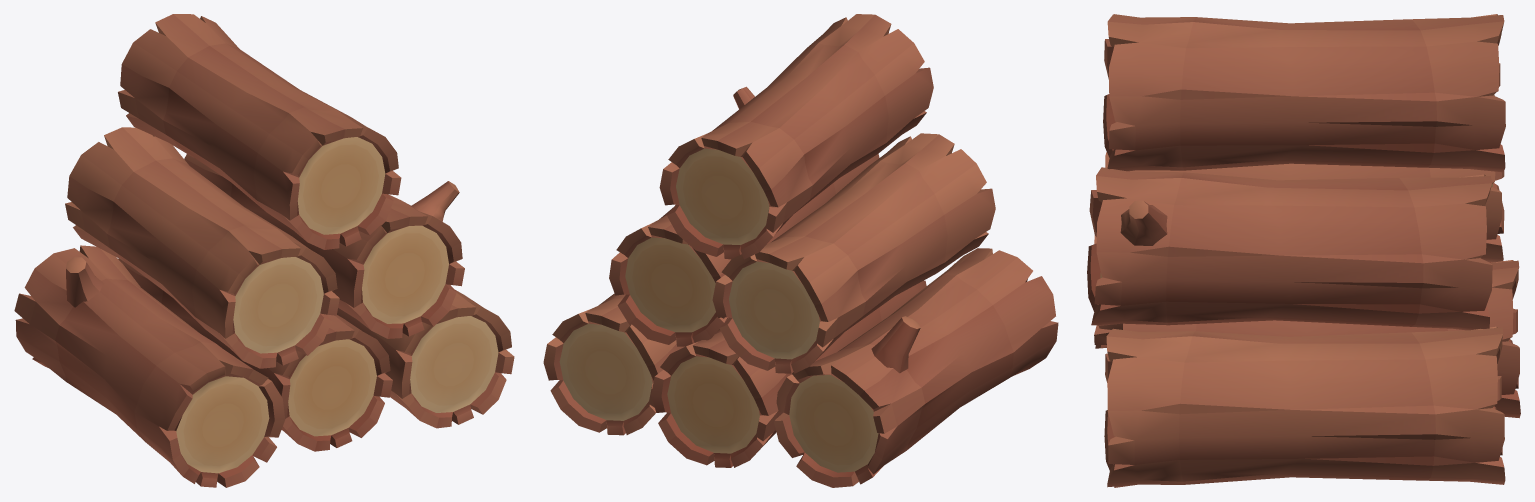
Rendered from tas-de-buches.glb.
The picture shows the model from 3 angles, left to right: view 1: azimuth 30°, elevation 25°; view 2: azimuth 150°, elevation 25°; view 3: azimuth 270°, elevation 25°; orthographic projection. The views are drawn at different scales.
Parts seen in each view (by area): view 1: Wood_Log_Stack; view 2: Wood_Log_Stack; view 3: Wood_Log_Stack.
Part boxes in pixels (left/top/right/bottom): Wood_Log_Stack: left=14, top=14, right=514, bottom=487; Wood_Log_Stack: left=543, top=14, right=1058, bottom=487; Wood_Log_Stack: left=1087, top=14, right=1520, bottom=487.
Size of the model in its own units: 1.68 by 1.5 by 1.5.
Materials: 1 (1 with a texture image).
